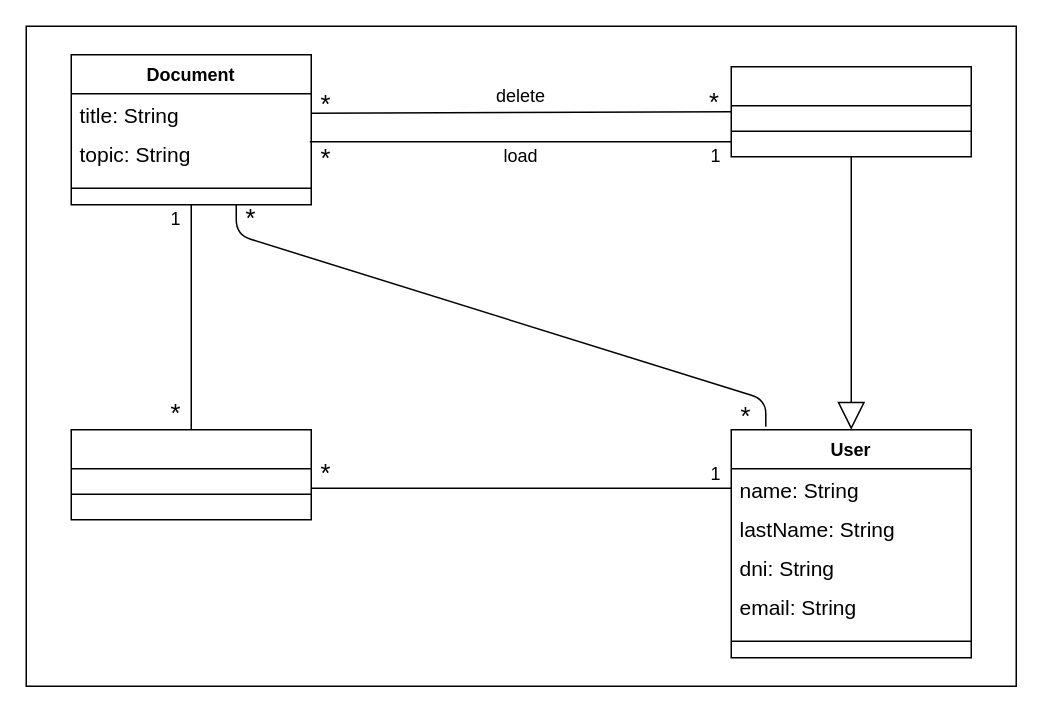
This 1043x713 diagram has some shape labels left out. The centre of each missing label's shape, as x and y in pixels:
Admin: [850,111]
Notification: [190,474]
